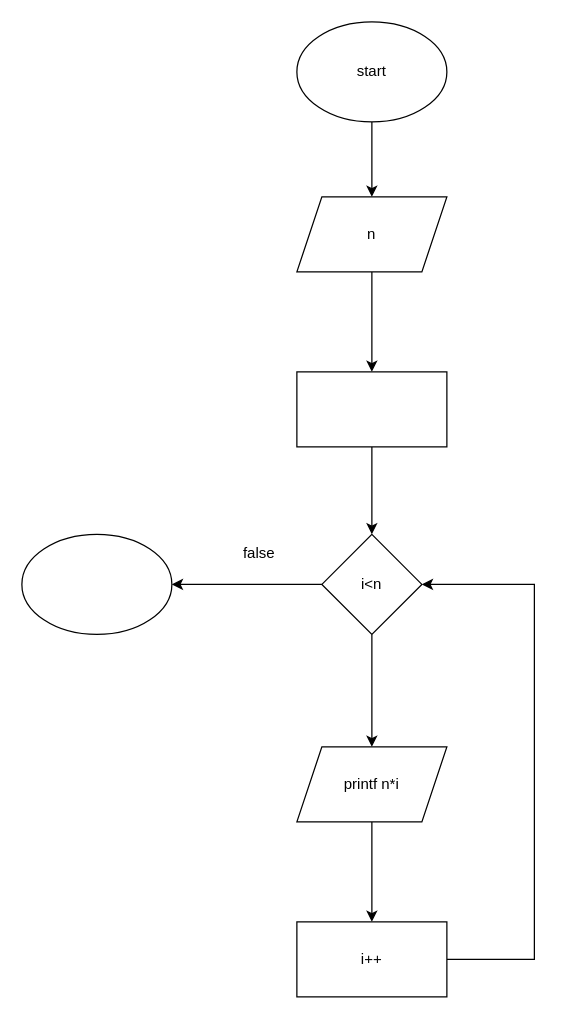
The diagram is 566 pixels wide and 1019 high, and some of its shapes have lost their labels. Each missing label, with the box of its shape:
end: (21, 533, 172, 634)
i=1;: (296, 371, 447, 447)
